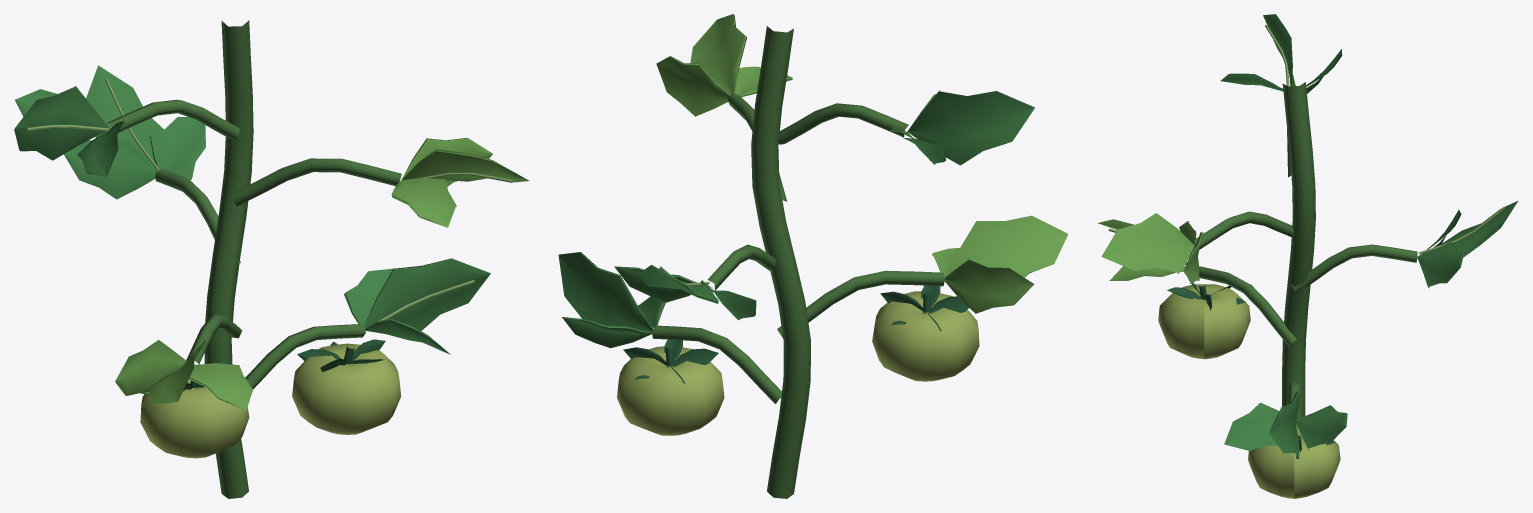
The model's file is tomate_2.glb.
3 views of the same model, side by side, from view 1: azimuth 30°, elevation 25°; view 2: azimuth 150°, elevation 25°; view 3: azimuth 270°, elevation 25° (orthographic). The views are drawn at different scales.
Visible parts, largest first — view 1: tomate_2_mata_0; view 2: tomate_2_mata_0; view 3: tomate_2_mata_0.
Part boxes in pixels (left/top/right/bottom): tomate_2_mata_0: left=14, top=20, right=529, bottom=498; tomate_2_mata_0: left=558, top=14, right=1068, bottom=498; tomate_2_mata_0: left=1097, top=14, right=1517, bottom=498.
Size of the model in its own units: 0.6812 by 0.6435 by 0.6174.
